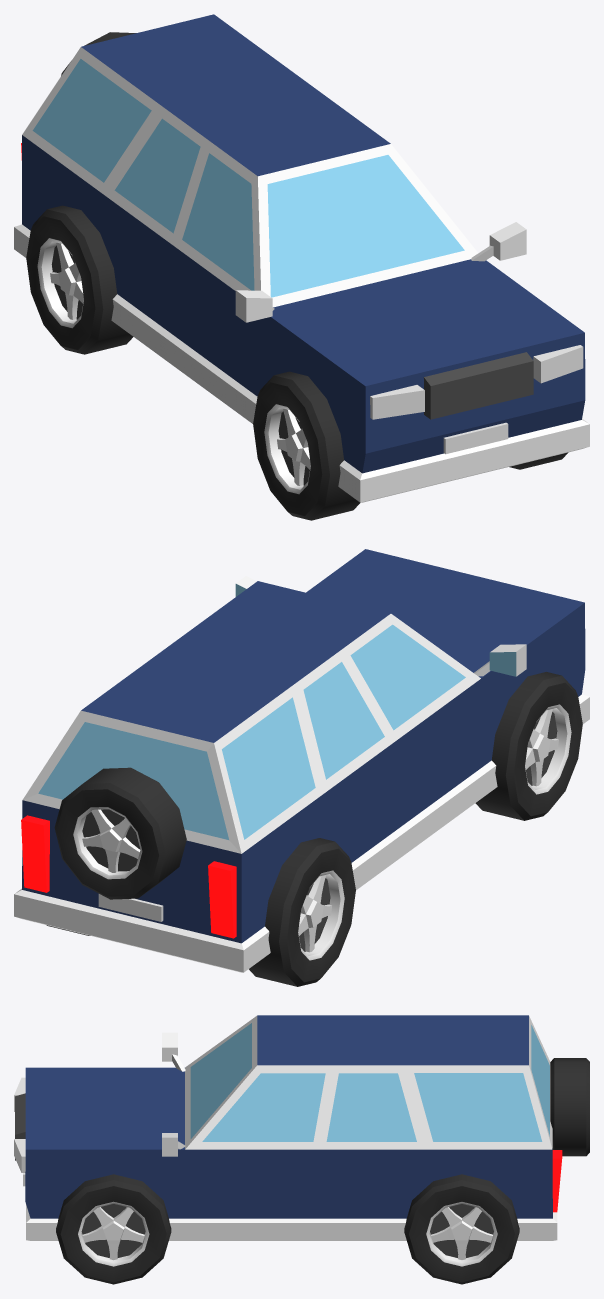
File: Car1.fbx
3 renders of one model, top to bottom at view 1: azimuth 30°, elevation 25°; view 2: azimuth 150°, elevation 25°; view 3: azimuth 270°, elevation 25°, orthographic. The views are drawn at different scales.
Visible parts, largest first — view 1: wheel_standart.003, wheel_standart.006, wheel_standart.007; view 2: wheel_standart.003, wheel_standart.006, wheel_standart.007; view 3: wheel_standart.003, wheel_standart.001, wheel_standart.005.
Boxes of the visible parts, x1=… form: wheel_standart.003: x1=14, y1=14, x2=589, y2=502; wheel_standart.006: x1=253, y1=371, x2=360, y2=520; wheel_standart.007: x1=26, y1=205, x2=133, y2=354; wheel_standart.003: x1=14, y1=549, x2=589, y2=972; wheel_standart.006: x1=475, y1=672, x2=582, y2=820; wheel_standart.007: x1=249, y1=838, x2=355, y2=986; wheel_standart.003: x1=14, y1=1015, x2=589, y2=1240; wheel_standart.001: x1=56, y1=1174, x2=171, y2=1284; wheel_standart.005: x1=404, y1=1174, x2=519, y2=1284.
Bounding box in the file's own units: 545 × 477 × 1262.
